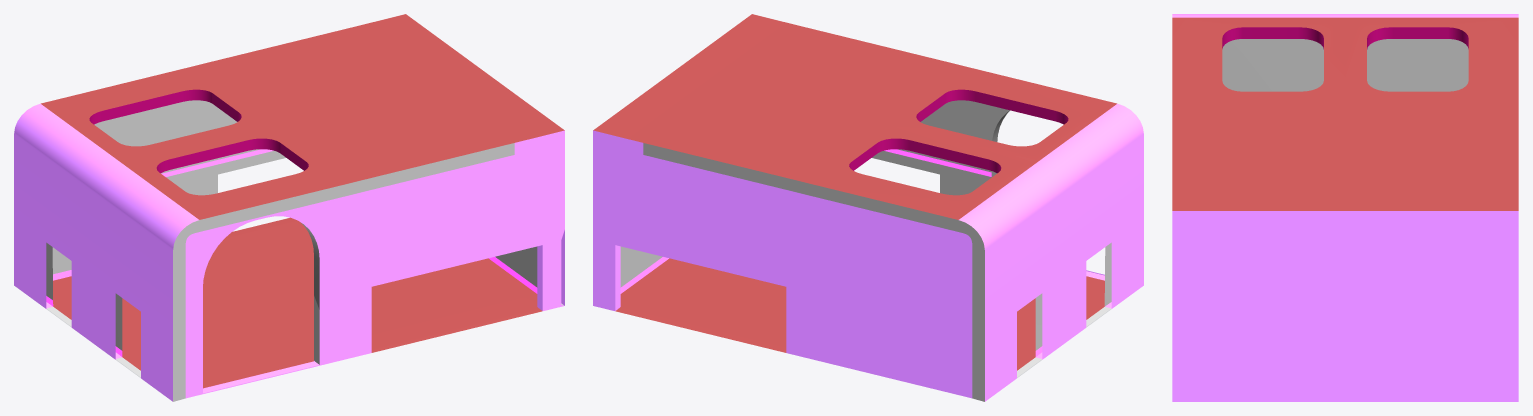
File: MUSEUM STRUCTURE.fbx
The picture shows the model from 3 angles, left to right: view 1: azimuth 30°, elevation 25°; view 2: azimuth 150°, elevation 25°; view 3: azimuth 270°, elevation 25°; orthographic projection. The views are drawn at different scales.
Parts seen in each view (by area): view 1: polySurface3, polySurface2; view 2: polySurface3; view 3: polySurface3.
Boxes of the visible parts, x1,y1,x2,y2 form: polySurface3: [14, 14, 564, 401]; polySurface2: [301, 223, 319, 364]; polySurface3: [593, 14, 1143, 401]; polySurface3: [1172, 14, 1518, 401].
Size of the model in its own units: 1038 by 446 by 730.
